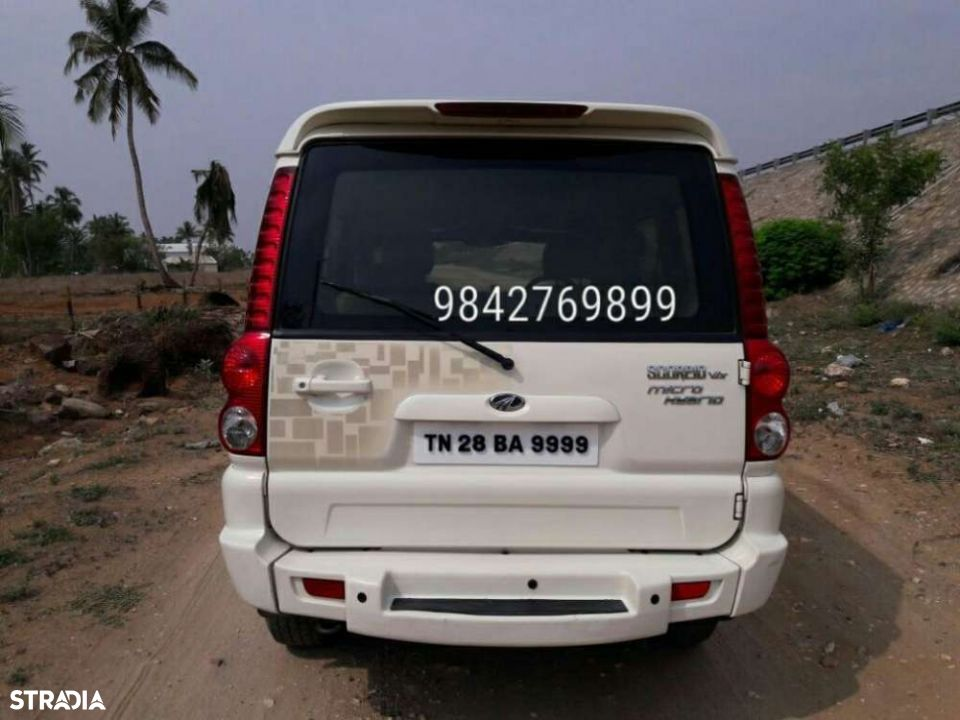number_plate: (405, 410, 611, 485)
